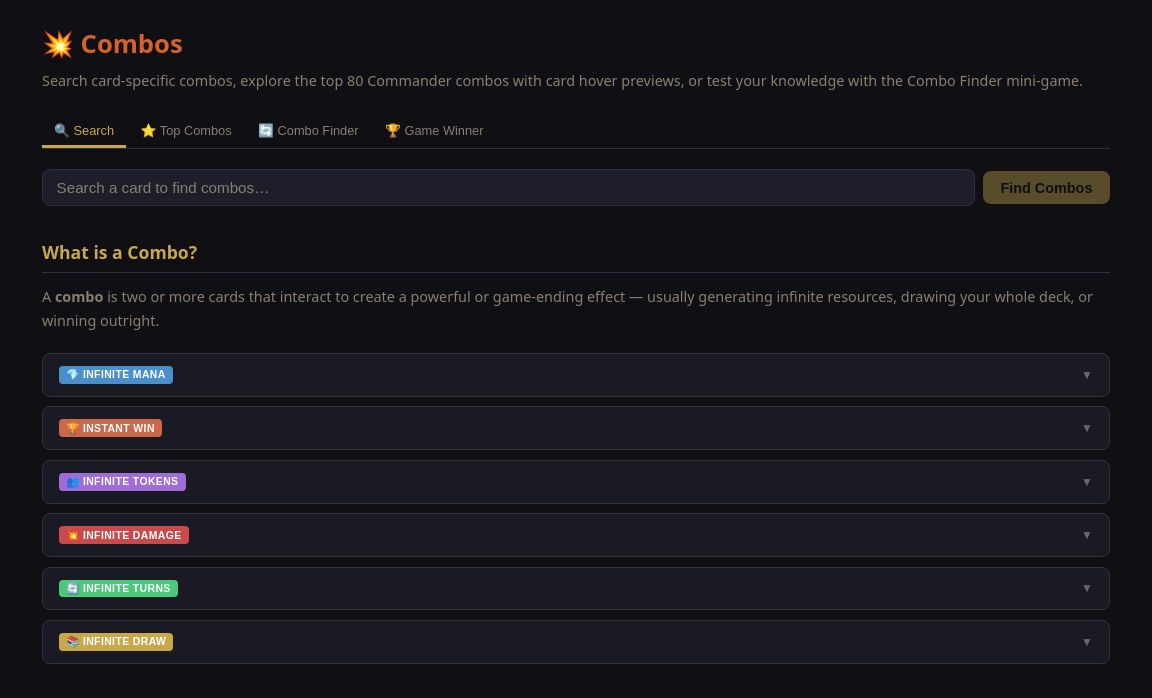
Test: Combos page › switching to Game Winner tab shows coming soon placeholder
Click the button "🏆 Game Winner" at point(434, 132), box x1=373 y1=116 x2=496 y2=148
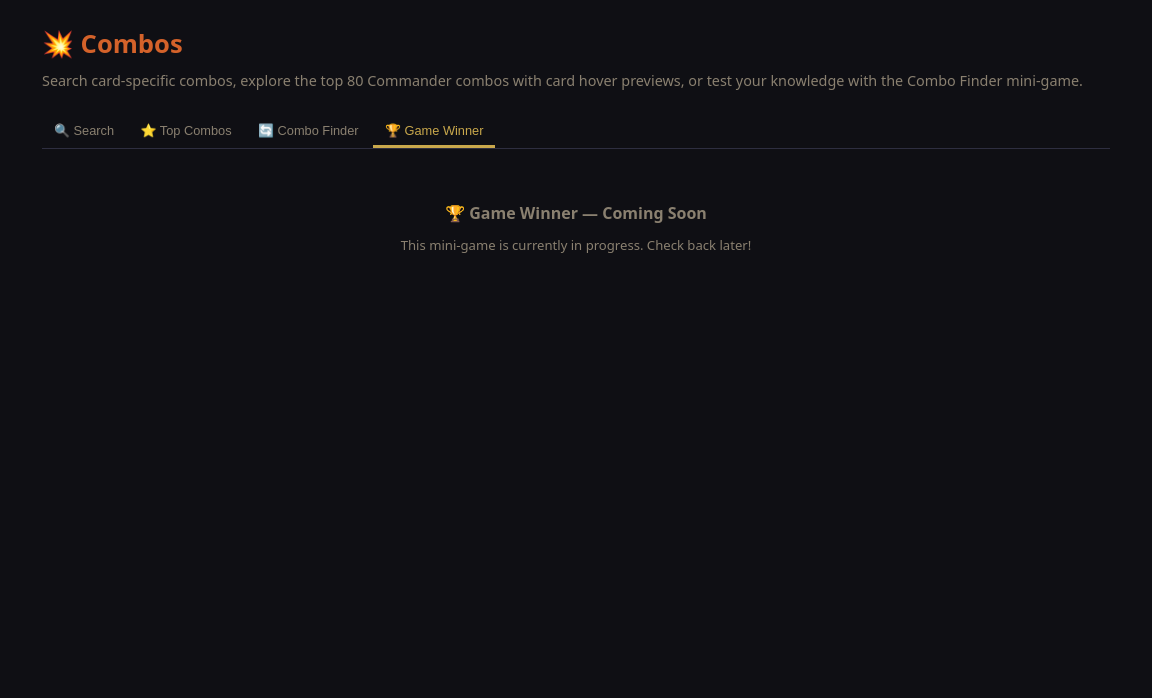
Check: the text "🏆 Game Winner — Coming Soon" is shown, box x1=445 y1=202 x2=707 y2=224
